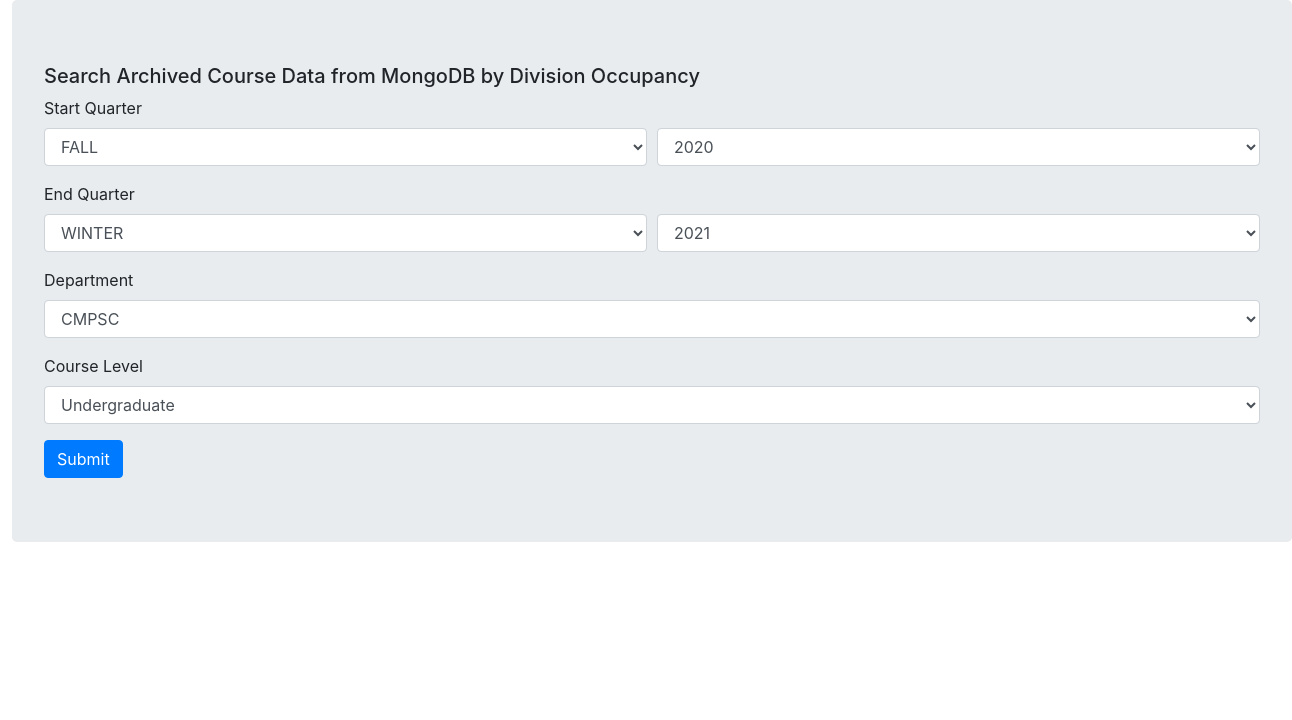
Test: DivisionOccupancy page tests › DivisionOccupancy no results is displayed for empty results
Click the button "Submit".
click(83, 459)  # box [44,440,123,478]
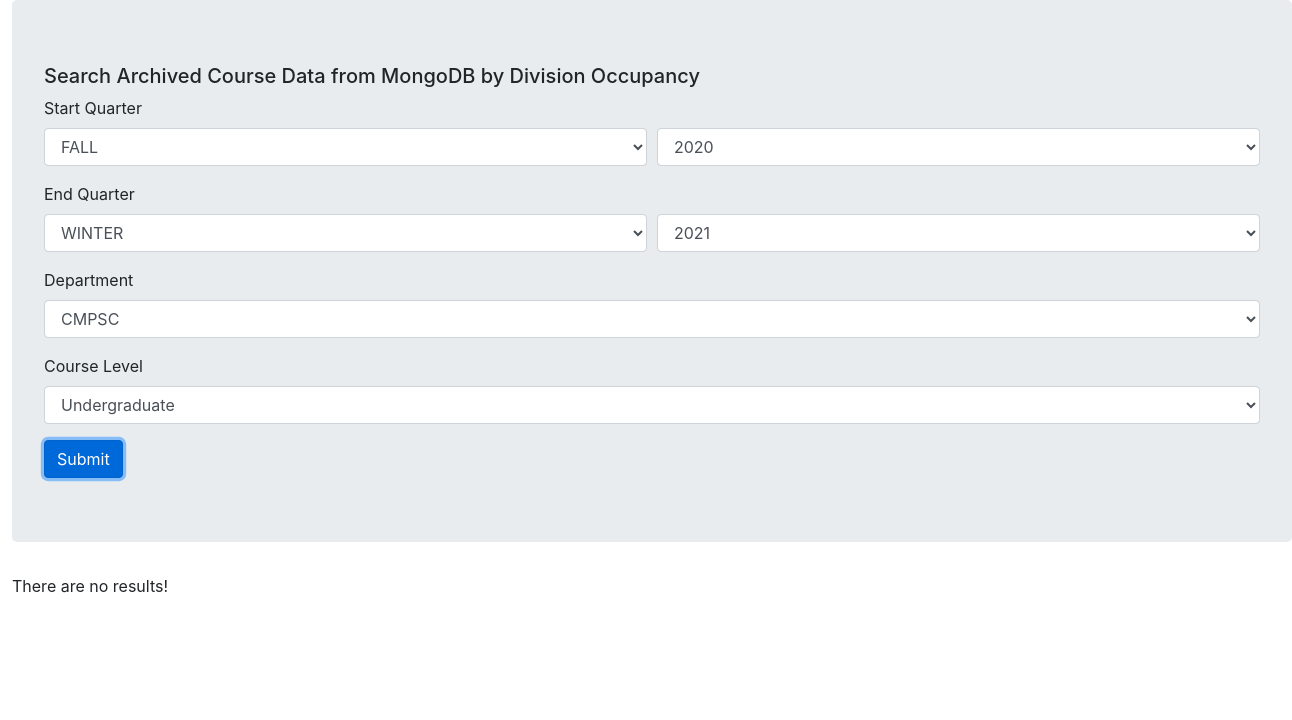
Expected: the text "There are no results!" is shown, [12,576,168,596]
